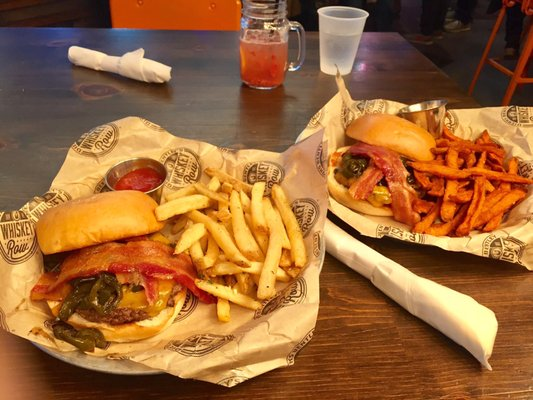pizza: (397, 99, 448, 139)
soup: (28, 192, 204, 354)
